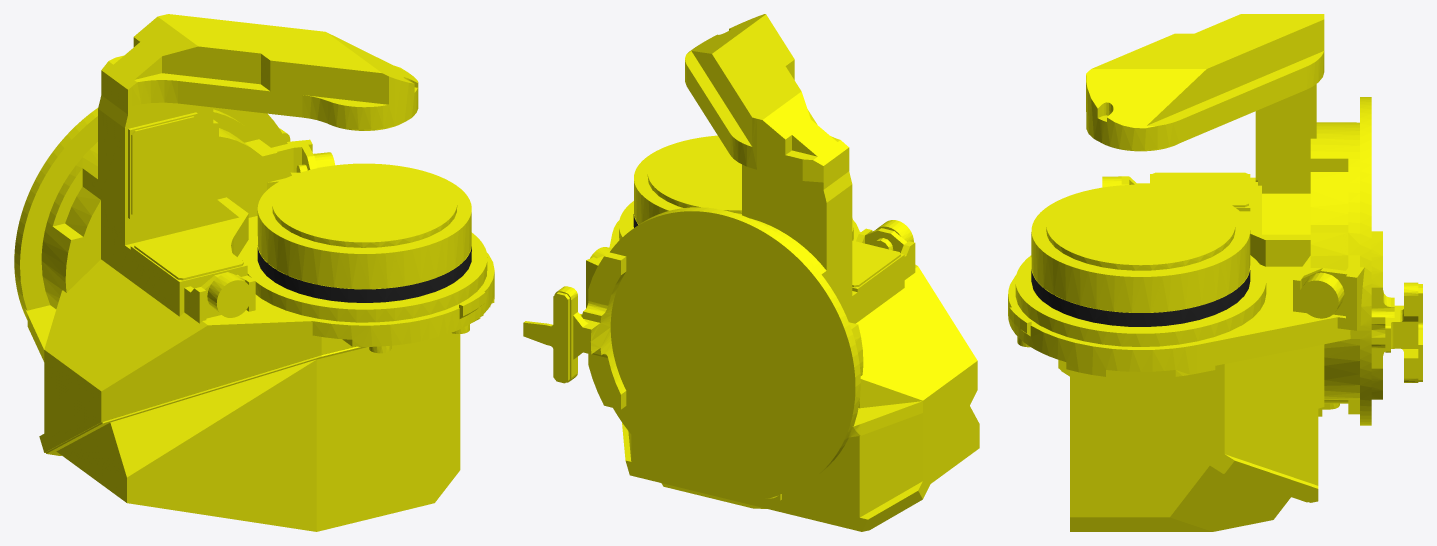
The picture shows the model from 3 angles, left to right: view 1: azimuth 30°, elevation 25°; view 2: azimuth 150°, elevation 25°; view 3: azimuth 270°, elevation 25°; orthographic projection. The views are drawn at different scales.
Parts seen in each view (by area): view 1: node; view 2: node; view 3: node.
Part boxes in pixels (box(x1,y1,x2,y2)): node: box(14, 14, 494, 531); node: box(523, 14, 979, 531); node: box(1008, 14, 1422, 531).
Bounding box in the file's own units: 566 × 632 × 538.
